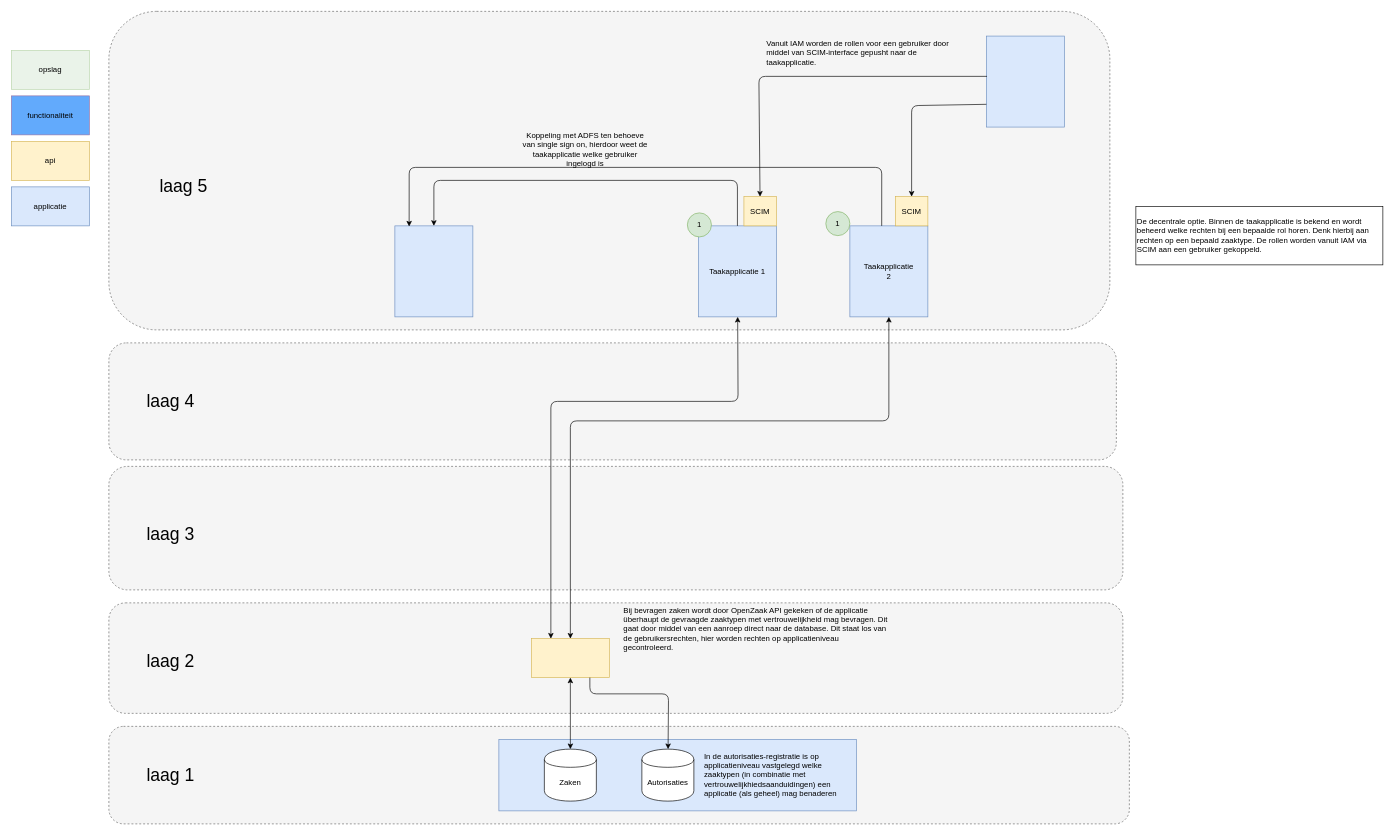
This 1394x835 diagram has some shape labels left out. The box of each missing label's shape, as (x1, y1, x2, y2) in pixels:
ADFS: (394, 225, 473, 317)
IAM Beheer van gebruikers en hun bijbehorende rollen in applicaties: (986, 35, 1064, 127)
OpenZaak zaken API: (531, 638, 609, 678)
